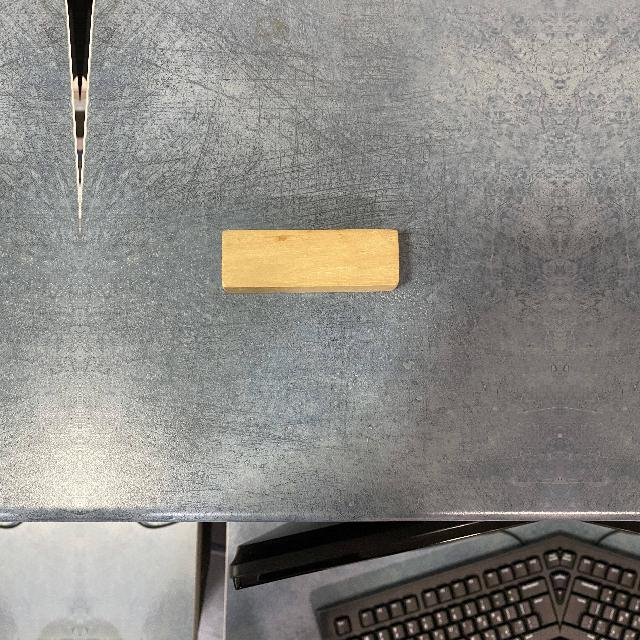jenga: (223, 231, 401, 288)
